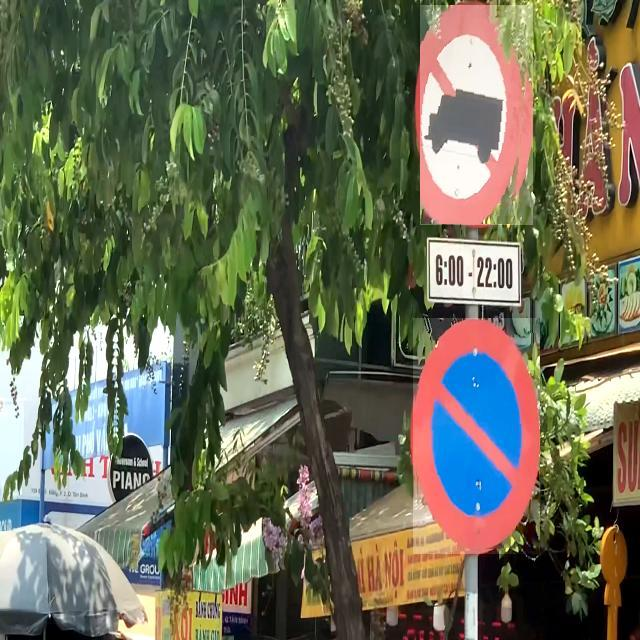P-106a: (420, 6, 533, 226)
P-131a: (413, 318, 540, 554)
